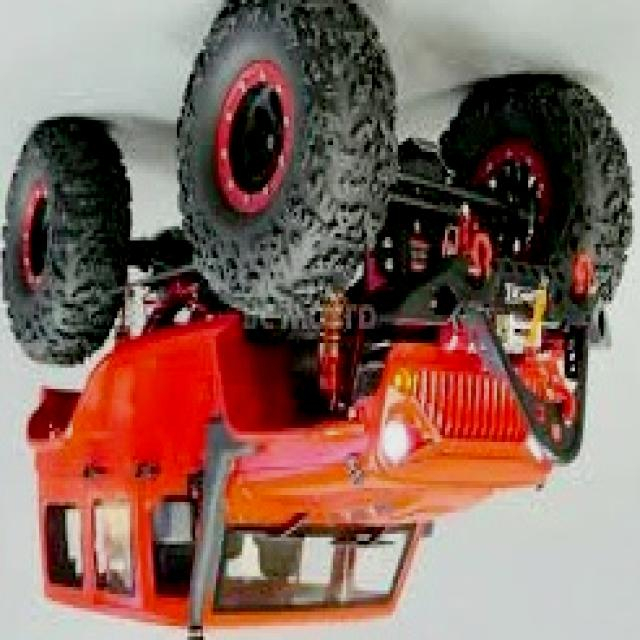red: (18, 87, 630, 618)
